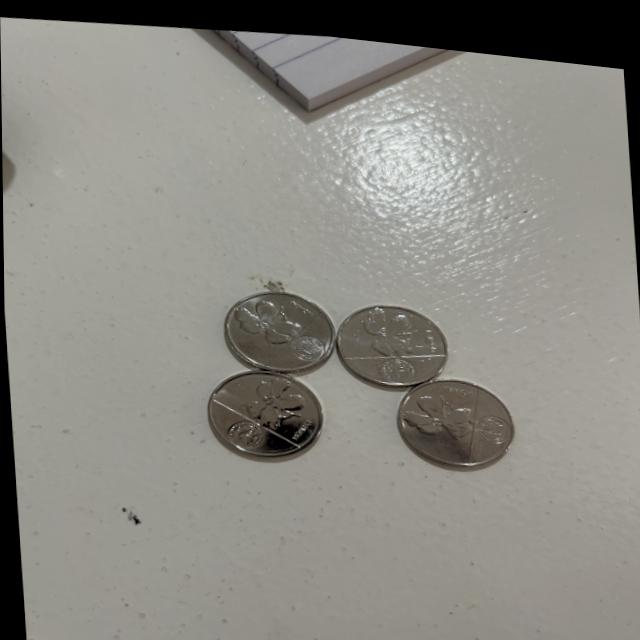25Cent_New_Back: (232, 280, 313, 342), (403, 376, 479, 433), (237, 367, 314, 422), (359, 293, 420, 347)
